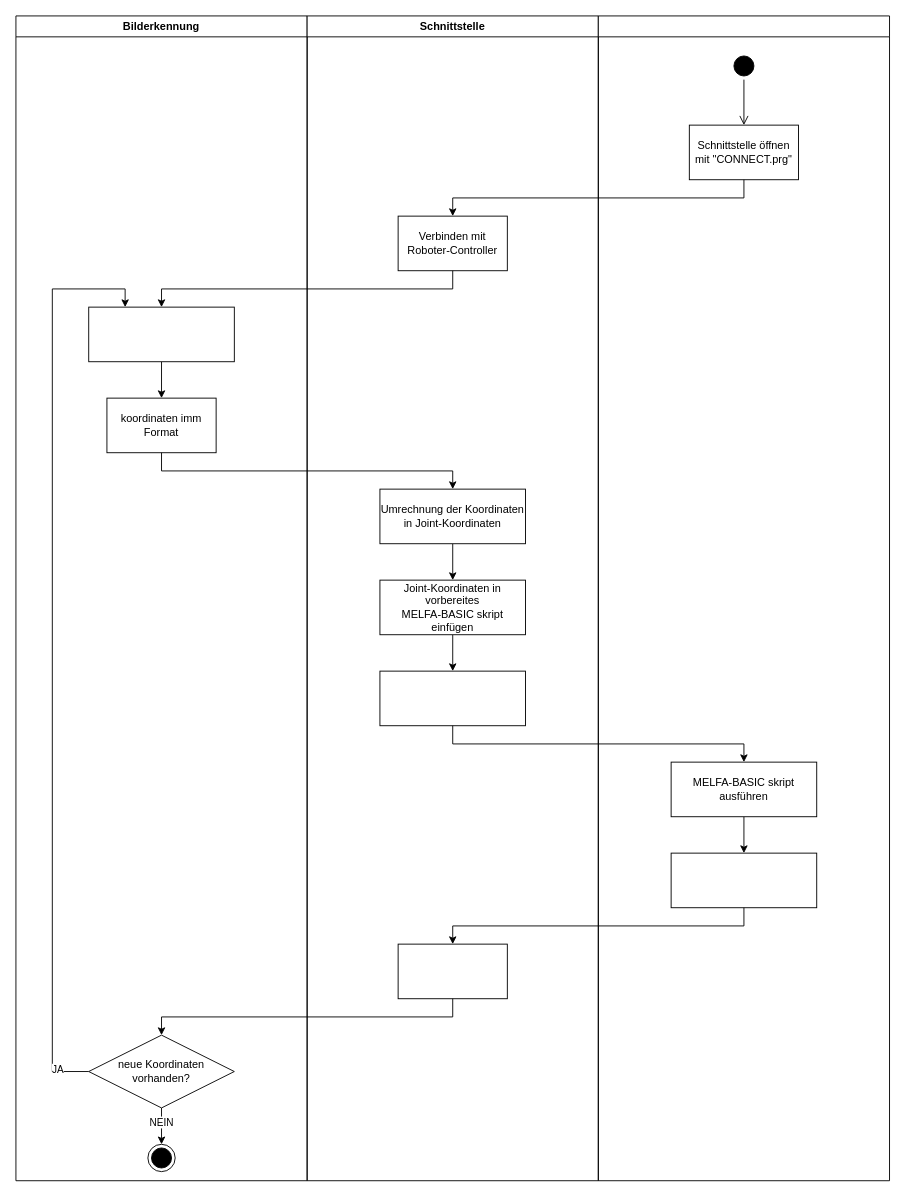
Some shapes in this 905 by 1197 pixel diagram are drawn without their labels. Each missing label, with the box of its shape:
Bilderkennung und Koordinatenbestimmung: (88, 306, 234, 362)
MELFA-BASIC skript an Roboter-Controller senden: (379, 670, 526, 726)
Neue Koordinaten anfordern: (397, 943, 507, 999)
Roboter-Controller: (597, 15, 890, 1181)
Rückmeldung, dass skript erfolgreich ausgeführt wurde: (670, 852, 817, 908)
